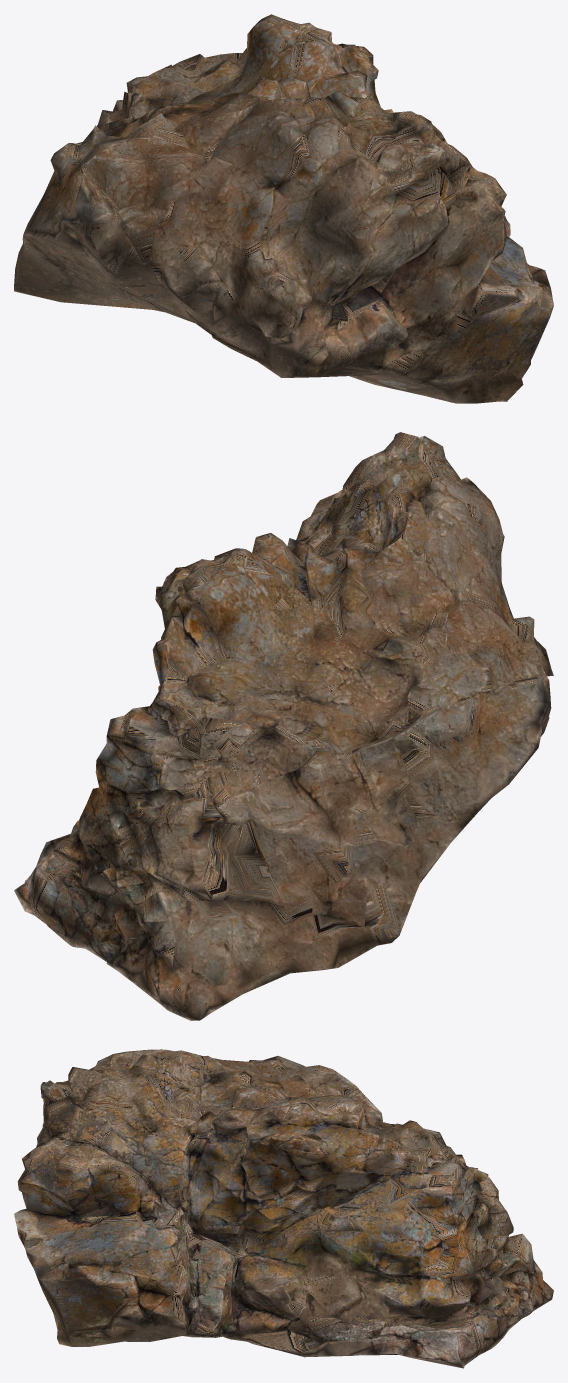
File: ocean-crag-lod.glb
3 renders of one model, top to bottom at view 1: azimuth 30°, elevation 25°; view 2: azimuth 150°, elevation 25°; view 3: azimuth 270°, elevation 25°, orthographic. The views are drawn at different scales.
Visible parts, largest first — view 1: boulder_01; view 2: boulder_01; view 3: boulder_01.
Boxes of the visible parts, bbox=[...] form: boulder_01: bbox=[14, 14, 553, 403]; boulder_01: bbox=[14, 432, 553, 1020]; boulder_01: bbox=[14, 1049, 553, 1368].
Bounding box in the file's own units: 1.27 × 1 × 1.83.
1 material, 1 textured.
